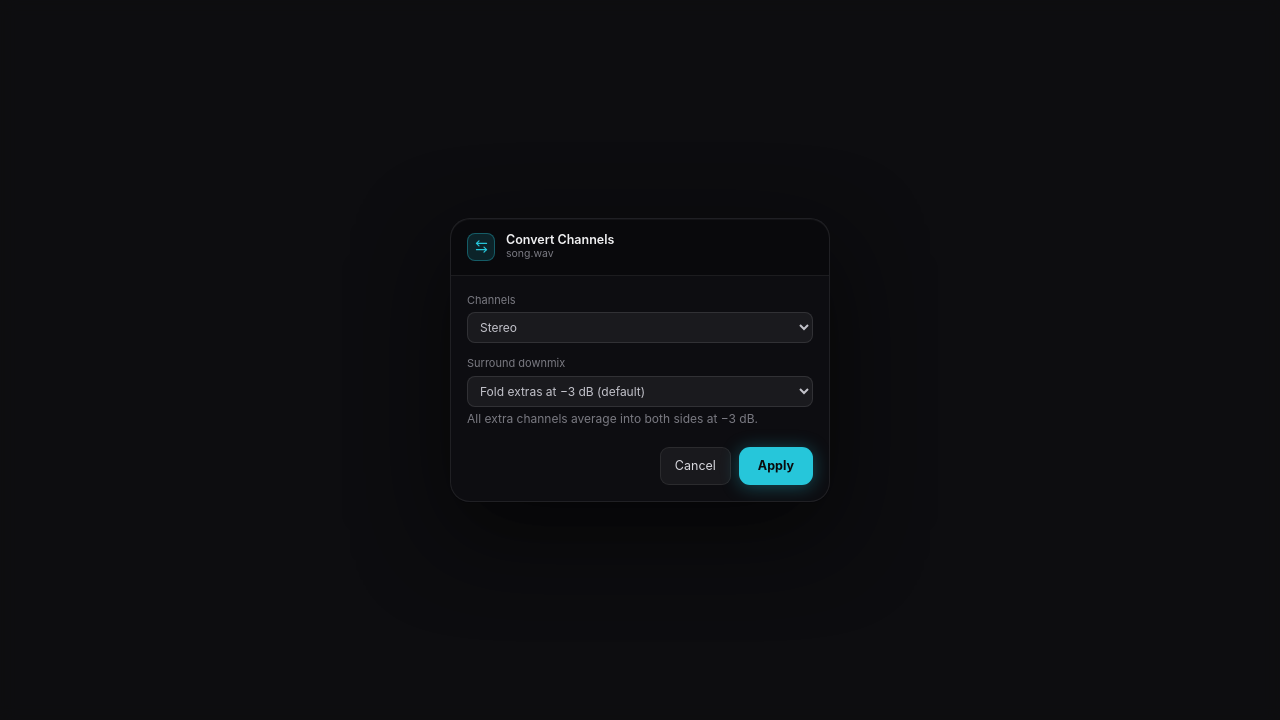
Test: R6 surround downmix law select › states the BS.775 behaviour (LFE discarded) once that law is selected
The image size is (1280, 720).
Select "ITU-R BS.775 surround matrix" in the dropdown with test id "convert-downmix" at (640, 391), box [467, 376, 813, 406]
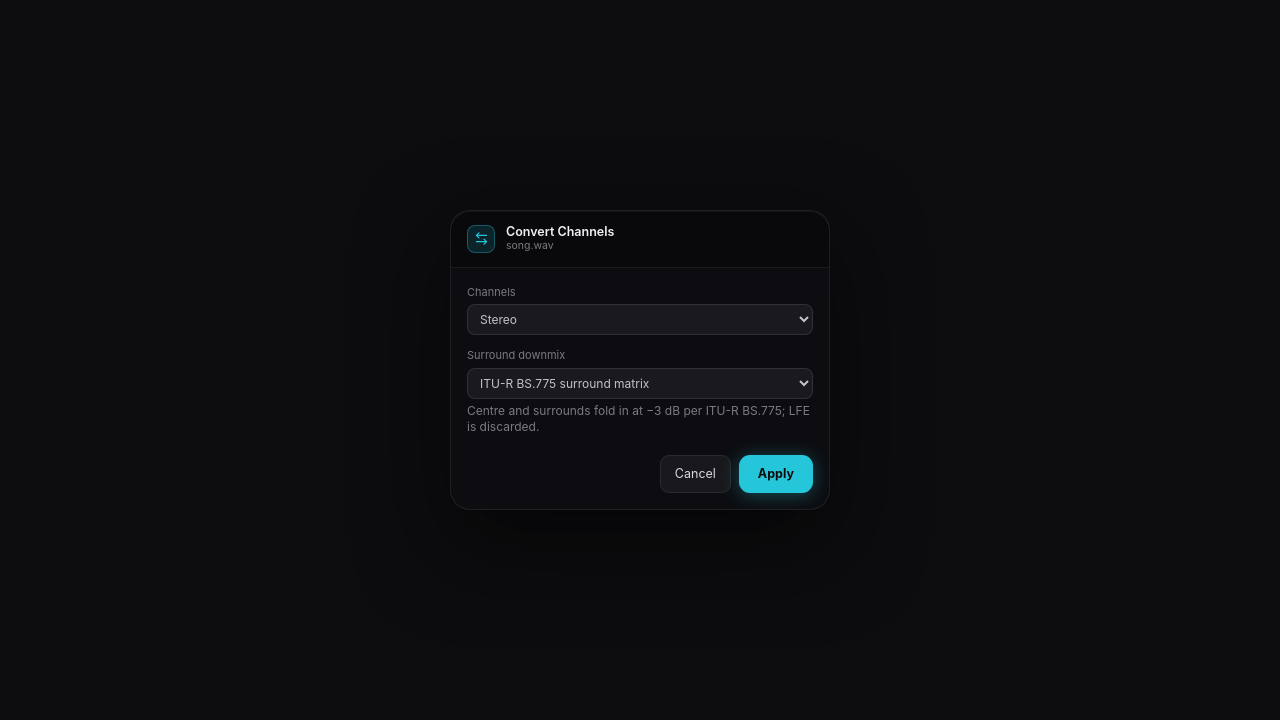
Result: the text with test id "convert-downmix-hint" shows "LFE is discarded" at [467, 402, 810, 434]
